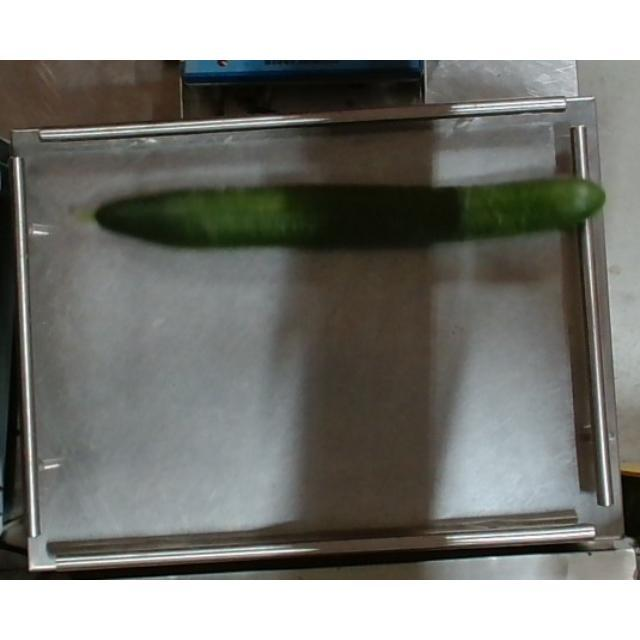cucumber: (68, 174, 608, 250)
